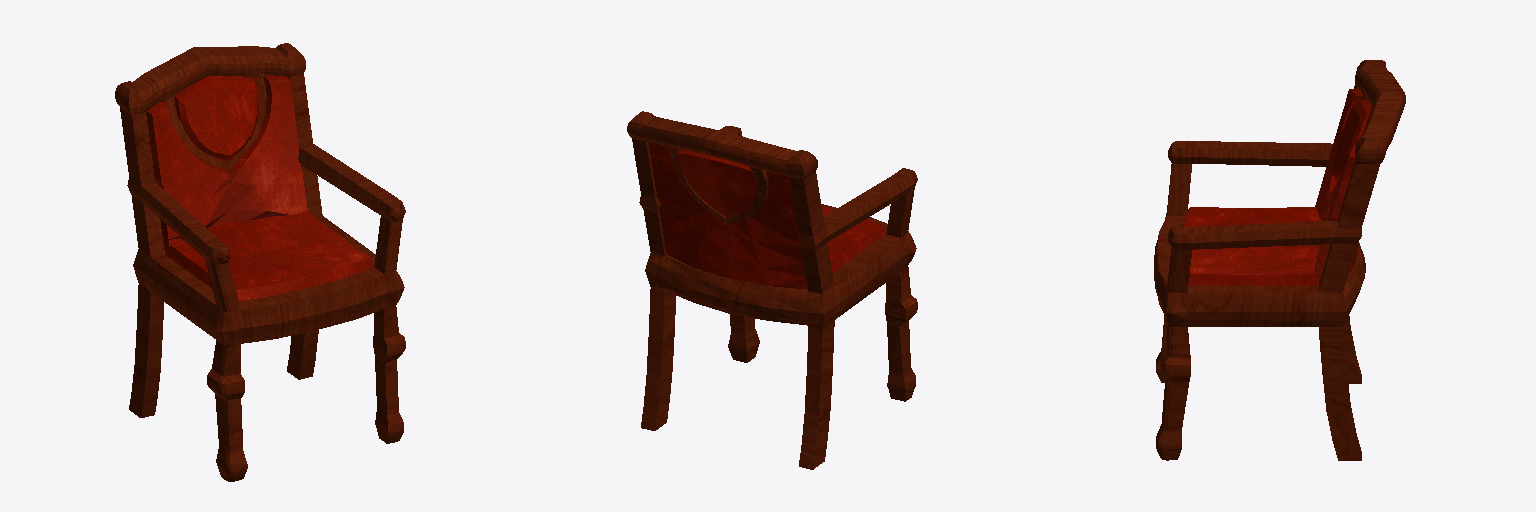
3 views of the same model, side by side, from view 1: azimuth 30°, elevation 25°; view 2: azimuth 150°, elevation 25°; view 3: azimuth 270°, elevation 25° (orthographic).
Visible parts, largest first — view 1: Cube.001; view 2: Cube.001; view 3: Cube.001.
Boxes of the visible parts, box(x1,y1,x2,y2) form: Cube.001: box(115, 43, 405, 481); Cube.001: box(627, 111, 917, 469); Cube.001: box(1154, 60, 1405, 460).
Bounding box in the file's own units: 1.83 × 2.91 × 2.05.
Materials: 2 (2 with a texture image).